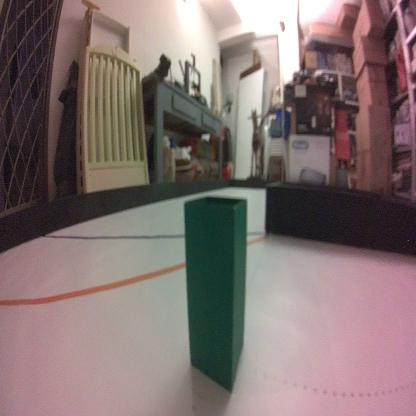green: (183, 187, 248, 396)
